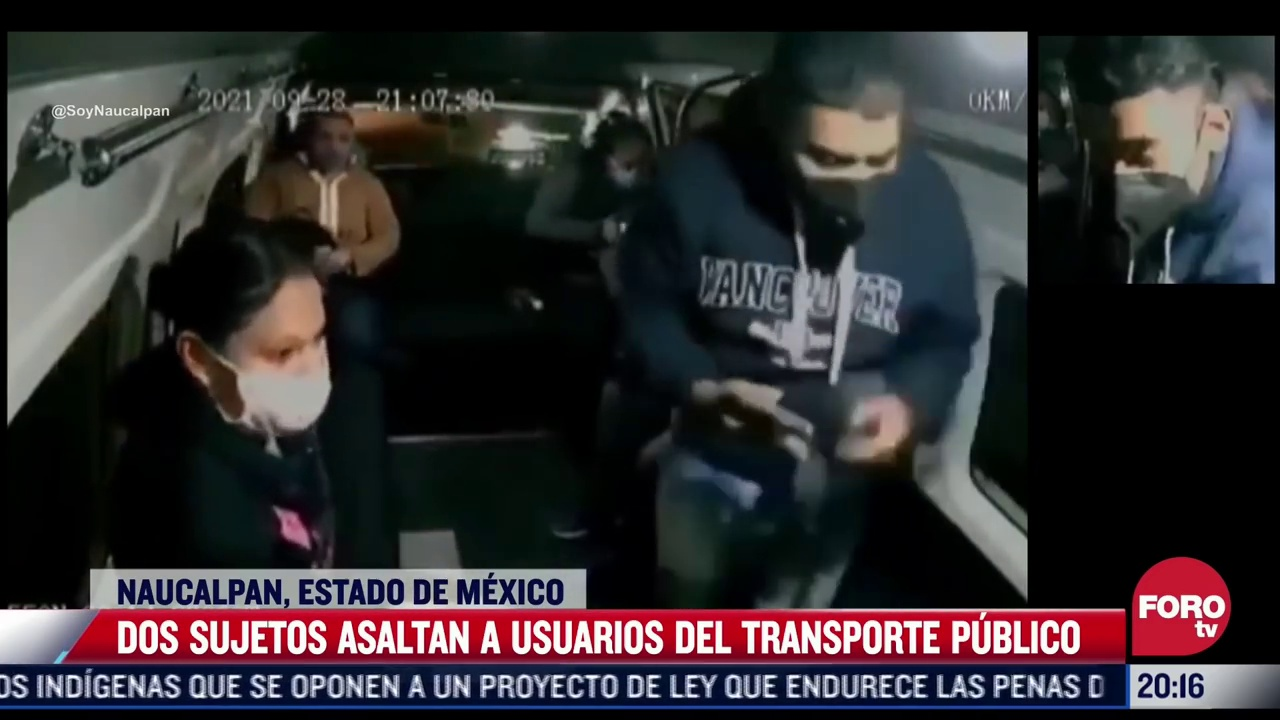pistol: (715, 381, 814, 465)
